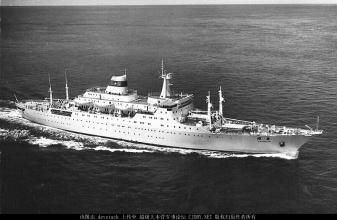warship: (7, 65, 324, 159)
